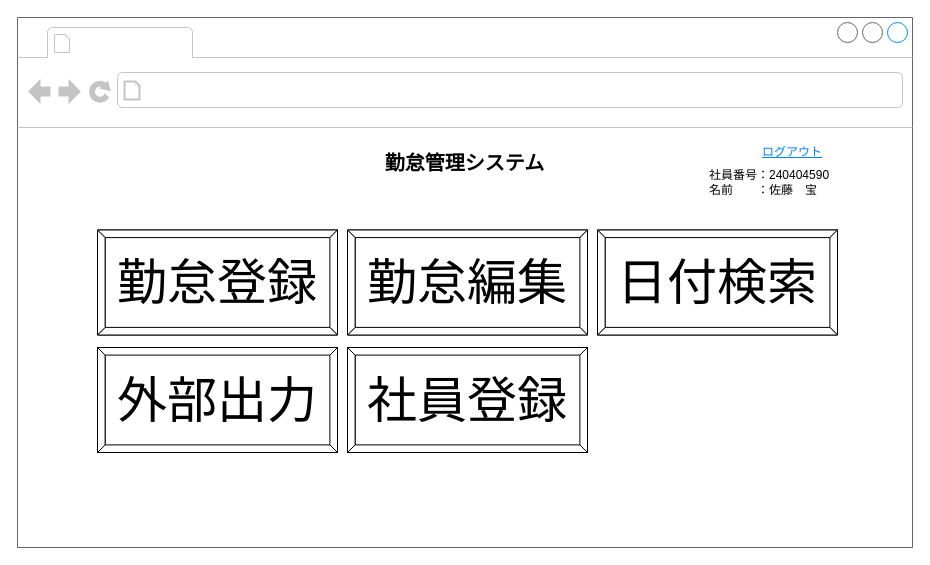
Some shapes in this 930 by 565 pixel diagram are drawn without their labels. Each missing label, with the box of its shape:
https://localhost:8080/edit_list: (146, 76, 398, 104)
Page 1: (76, 28, 188, 56)
